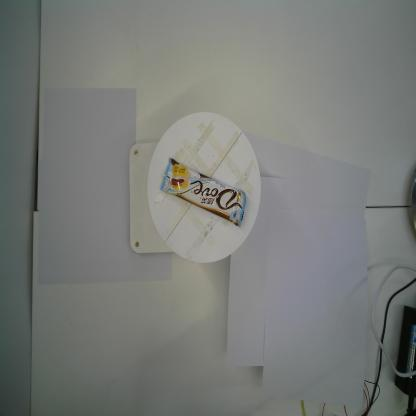Chocolate: (160, 158, 246, 228)
